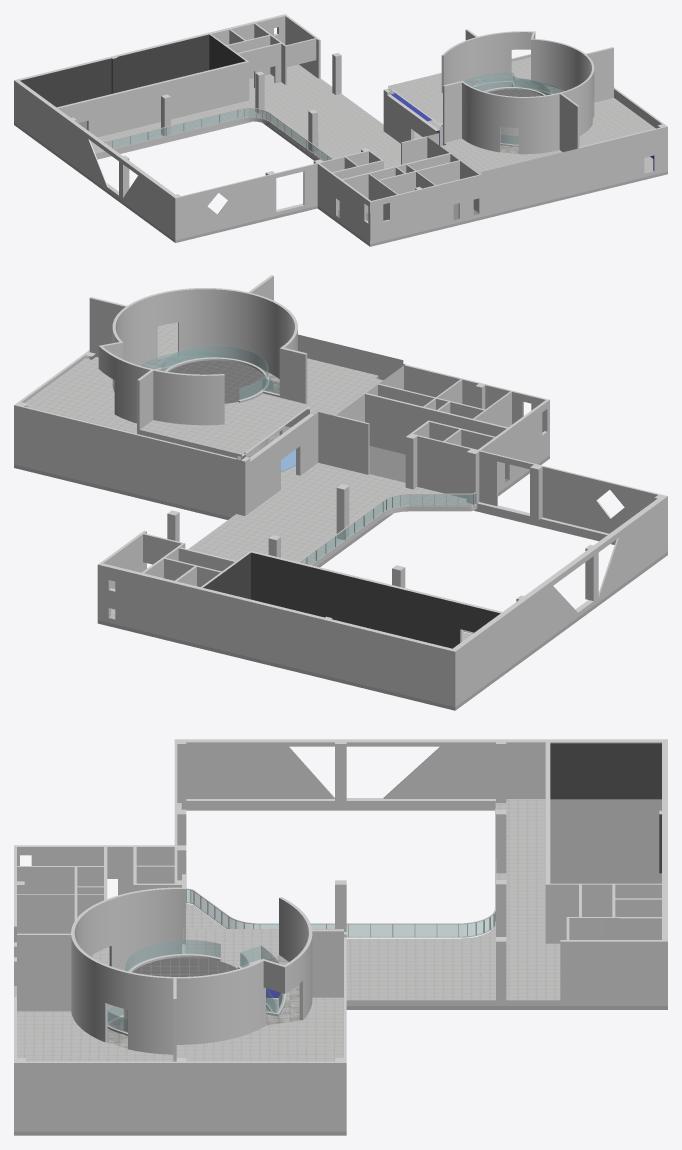
3 renders of one model, top to bottom at view 1: azimuth 30°, elevation 25°; view 2: azimuth 150°, elevation 25°; view 3: azimuth 270°, elevation 25°, orthographic. The views are drawn at different scales.
Parts seen in each view (by area): view 1: Floor_3_pillar, F4_Circle, F3_floor, F3_floor_stick, F4_Floor01, F4_Floor03, Glass_F3, F4_Floor02, Glass_F4_Circle, F3_GlasseFrame, F4_Floor04, F4_CircleStair; view 2: Floor_3_pillar, F4_Circle, F3_floor, F4_Floor01, F3_floor_stick, F4_Floor04, F4_Floor02, Glass_F4_Circle, Glass_F3, F3_GlasseFrame, F4_Floor03; view 3: Floor_3_pillar, F3_floor, F4_Circle, F4_Floor04, F4_Floor01, F4_Floor03, F3_floor_stick, Glass_F3, Glass_F4_Circle, F3_GlasseFrame, F4_CircleStair.
Boxes of the visible parts, <box> form: Floor_3_pillar: <box>14,14,667,240</box>; F4_Circle: <box>441,29,613,154</box>; F3_floor: <box>14,64,667,244</box>; F3_floor_stick: <box>14,121,667,246</box>; F4_Floor01: <box>388,73,545,144</box>; F4_Floor03: <box>579,98,655,146</box>; Glass_F3: <box>105,108,331,160</box>; F4_Floor02: <box>440,138,562,175</box>; Glass_F4_Circle: <box>464,72,564,144</box>; F3_GlasseFrame: <box>104,108,332,161</box>; F4_Floor04: <box>511,57,530,87</box>; F4_CircleStair: <box>465,76,564,153</box>; Floor_3_pillar: <box>14,334,667,702</box>; F4_Circle: <box>89,275,307,435</box>; F3_floor: <box>14,446,667,707</box>; F4_Floor01: <box>140,357,309,457</box>; F3_floor_stick: <box>14,455,667,710</box>; F4_Floor04: <box>24,357,136,433</box>; F4_Floor02: <box>271,358,382,415</box>; Glass_F4_Circle: <box>140,345,279,457</box>; Glass_F3: <box>300,494,475,632</box>; F3_GlasseFrame: <box>299,492,476,633</box>; F4_Floor03: <box>157,322,181,365</box>; Floor_3_pillar: <box>14,739,667,1126</box>; F3_floor: <box>14,798,667,1131</box>; F4_Circle: <box>17,874,343,1061</box>; F4_Floor04: <box>176,997,343,1061</box>; F4_Floor01: <box>123,929,343,1031</box>; F4_Floor03: <box>17,1011,173,1061</box>; F3_floor_stick: <box>14,806,667,1135</box>; Glass_F3: <box>187,890,495,936</box>; Glass_F4_Circle: <box>107,930,284,1032</box>; F3_GlasseFrame: <box>186,808,496,937</box>; F4_CircleStair: <box>107,955,299,1040</box>.
Size of the model in its own units: 5319 by 1024 by 4480.
Materials: 12 (3 with a texture image).
